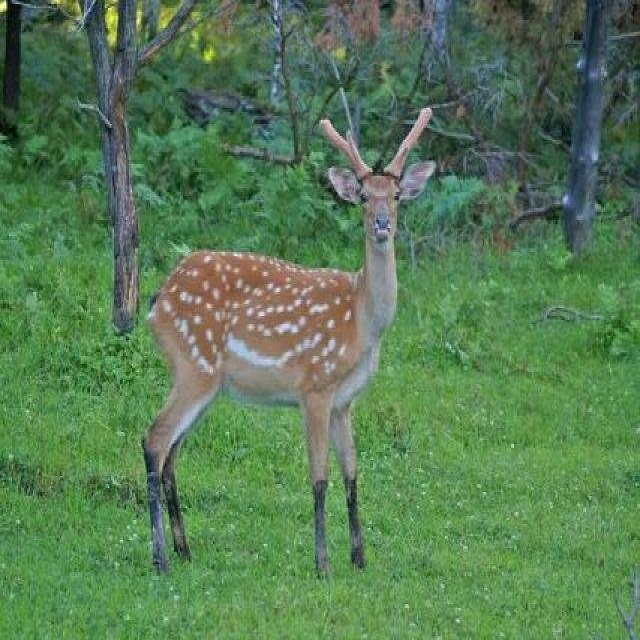deer: (118, 139, 436, 577)
